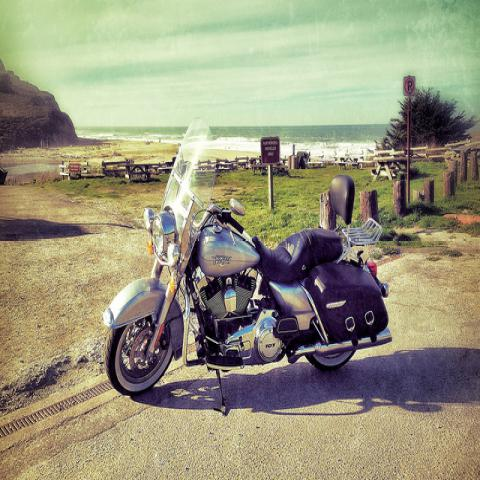motorcycle: (104, 112, 396, 414)
